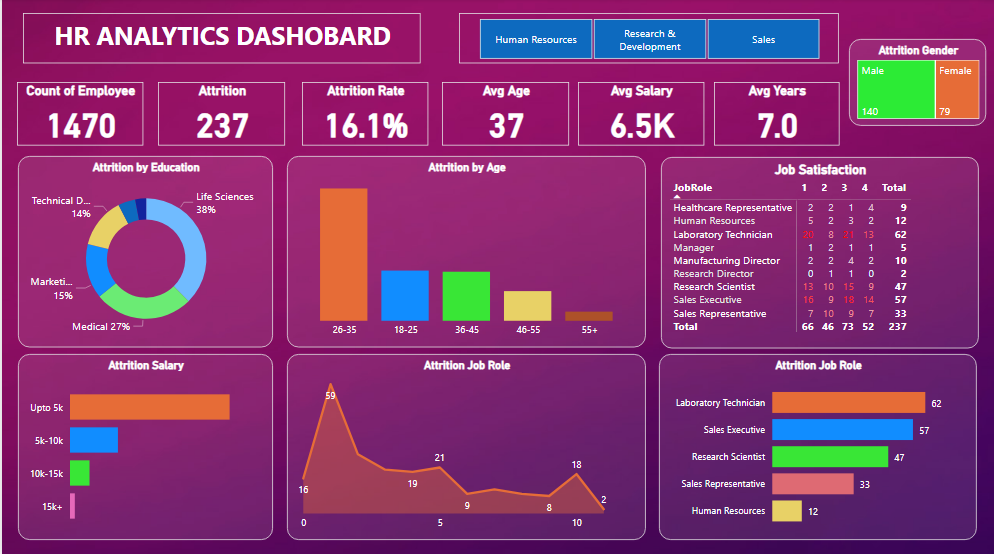

Layout of this report page (visuals, bound fields, positions):
{"tool":"powerbi","page":{"name":"Page 1","canvas":[1280,720],"ordinal":0},"visuals":[{"type":"card","title":"Count of Employee","fields":{"Values":["CountNonNull(HR_Analytics.EmpID)"]},"box":[19.8,107.7,163,82.2],"z":0},{"type":"card","title":"Attrition Rate","fields":{"Values":["HR_Analytics.AttritionRate"]},"box":[386.9,107.7,163,82.2],"z":1000},{"type":"card","title":"Attrition","fields":{"Values":["Sum(HR_Analytics.AttritionCount)"]},"box":[201.3,107.7,164.4,82.2],"z":2000},{"type":"card","title":"Avg Age","fields":{"Values":["Avg(HR_Analytics.Age)"]},"box":[568.3,107.7,164.4,82.2],"z":3000},{"type":"card","title":"Avg Years","fields":{"Values":["Avg(HR_Analytics.YearsAtCompany)"]},"box":[918.4,107.7,161.6,82.2],"z":4000},{"type":"card","title":"Avg Salary","fields":{"Values":["Avg(HR_Analytics.MonthlyIncome)"]},"box":[742.7,107.7,163,82.2],"z":5000},{"type":"donutChart","title":"Attrition by Education","fields":{"Category":["HR_Analytics.EducationField"],"Y":["Sum(HR_Analytics.AttritionCount)"]},"box":[20.1,203,328.8,246.6],"z":6000},{"type":"columnChart","title":"Attrition by Age","fields":{"Category":["HR_Analytics.AgeGroup"],"Y":["Sum(HR_Analytics.AttritionCount)"]},"box":[367.4,203,463,246.6],"z":7000},{"type":"pivotTable","title":"Job Satisfaction","fields":{"Rows":["HR_Analytics.JobRole"],"Columns":["HR_Analytics.JobSatisfaction"],"Values":["Sum(HR_Analytics.AttritionCount)"]},"box":[850,203.3,410,246.7],"z":8000},{"type":"barChart","title":"Attrition Salary","fields":{"Category":["HR_Analytics.SalarySlab"],"Y":["Sum(HR_Analytics.AttritionCount)"]},"box":[20.1,458,328.8,239.9],"z":9000},{"type":"barChart","title":"Attrition Job Role","fields":{"Category":["HR_Analytics.JobRole"],"Y":["Sum(HR_Analytics.AttritionCount)"]},"box":[847.8,457.8,410,240],"z":10000},{"type":"areaChart","title":"Attrition Job Role","fields":{"Category":["HR_Analytics.YearsAtCompany"],"Y":["Sum(HR_Analytics.AttritionCount)"]},"box":[367.4,458,463,239.9],"z":11000},{"type":"treemap","title":"Attrition Gender","fields":{"Group":["HR_Analytics.Gender"],"Values":["Sum(HR_Analytics.AttritionCount)"]},"box":[1092.8,36.9,177.2,153.1],"z":12000},{"type":"textbox","box":[26.9,18.4,513.1,65.2],"z":13000},{"type":"slicer","fields":{"Values":["HR_Analytics.Department"]},"box":[579.7,18.4,490.4,65.2],"z":14000}]}

Visuals, with their boxes in screenshot pixels (x1, y1, x2, y2), scaled from the page's 1280x720 canvas onto the 994x554 screenshot:
"Count of Employee" card: locate(15, 83, 142, 146)
"Attrition Rate" card: locate(300, 83, 427, 146)
"Attrition" card: locate(156, 83, 284, 146)
"Avg Age" card: locate(441, 83, 569, 146)
"Avg Years" card: locate(713, 83, 839, 146)
"Avg Salary" card: locate(577, 83, 703, 146)
"Attrition by Education" donutChart: locate(16, 156, 271, 346)
"Attrition by Age" columnChart: locate(285, 156, 645, 346)
"Job Satisfaction" pivotTable: locate(660, 156, 978, 346)
"Attrition Salary" barChart: locate(16, 352, 271, 537)
"Attrition Job Role" barChart: locate(658, 352, 977, 537)
"Attrition Job Role" areaChart: locate(285, 352, 645, 537)
"Attrition Gender" treemap: locate(849, 28, 986, 146)
textbox: locate(21, 14, 419, 64)
slicer - HR_Analytics.Department: locate(450, 14, 831, 64)
